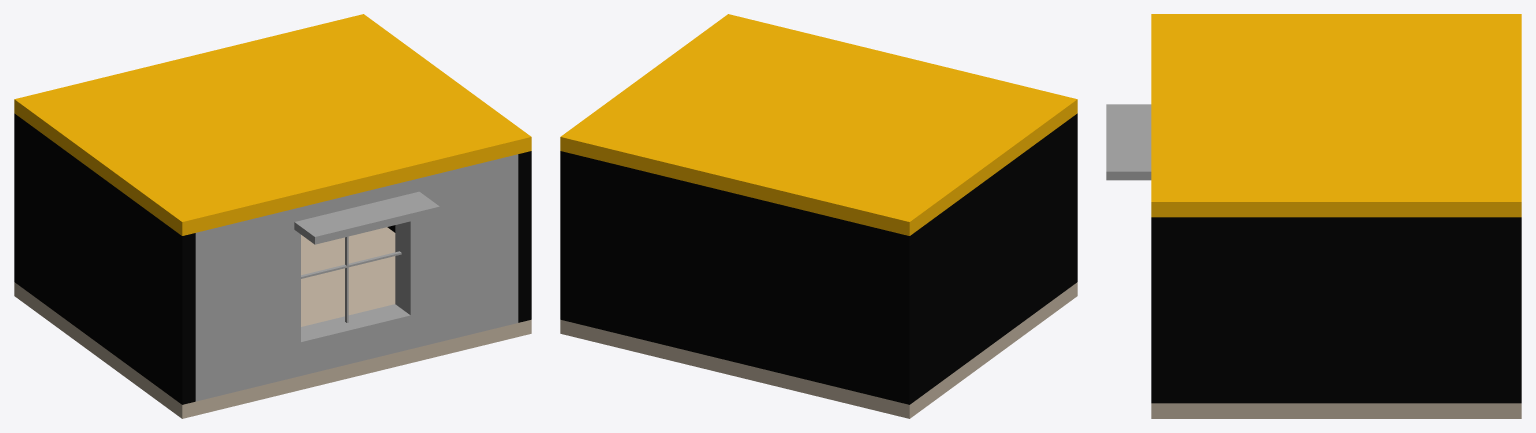
The model's file is room.glb.
The picture shows the model from 3 angles, left to right: view 1: azimuth 30°, elevation 25°; view 2: azimuth 150°, elevation 25°; view 3: azimuth 270°, elevation 25°; orthographic projection. The views are drawn at different scales.
Size of the model in its own units: 1.98 by 1.07 by 1.85.
